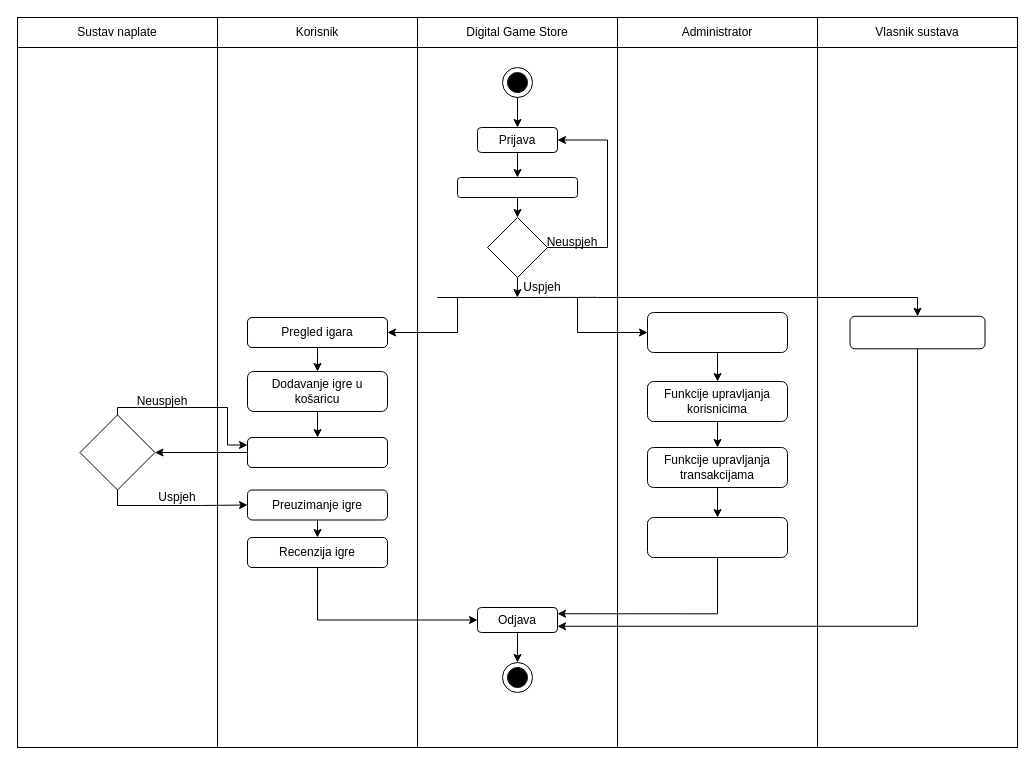
Image size: 1035x765. Some labels were removed from this diagram. Each missing label, with the centre of its shape:
Autorizacija: point (517, 187)
Funkcije upravljanja recenzijama: point (717, 537)
Funkcije upravljanja sustavom: point (717, 332)
Plaćanje igre: point (317, 452)
Pregled izvještaja: point (917, 332)
Provjera: point (517, 247)
Provjera plaćanja: point (117, 452)
